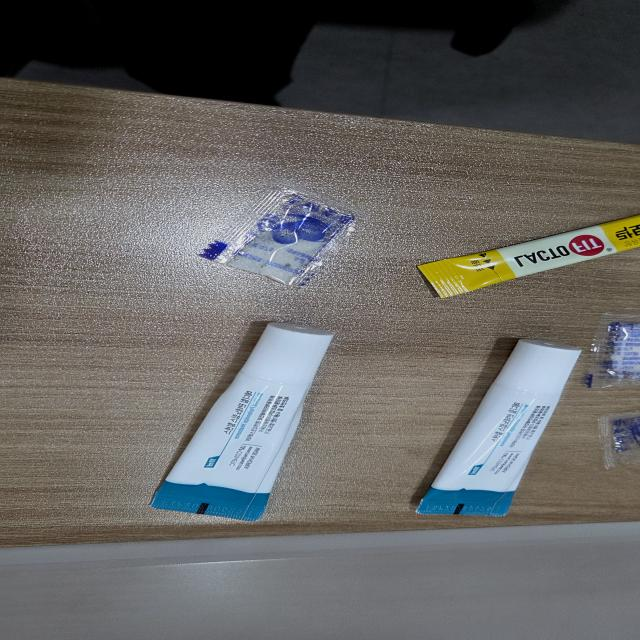lacto: (404, 208, 640, 304)
lib: (148, 316, 332, 522), (415, 330, 586, 516)
salt: (200, 178, 369, 288), (585, 306, 640, 393), (597, 407, 640, 472)
